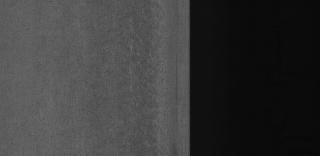silk spot: (90, 95, 142, 138), (82, 26, 126, 74), (140, 45, 172, 93)
